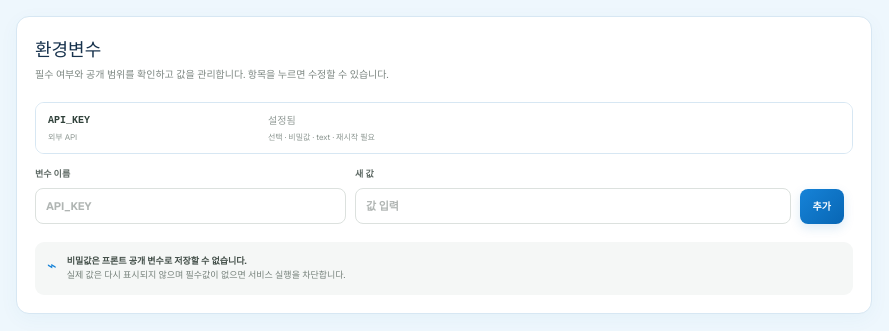
환경변수 저장 중에는 같은 요청을 다시 보내지 않는다
Click the button "API_KEY 외부 API 설정됨 선택 · 비밀값 · text · 재시작 필요" at (69,120), box [36,103,852,153]
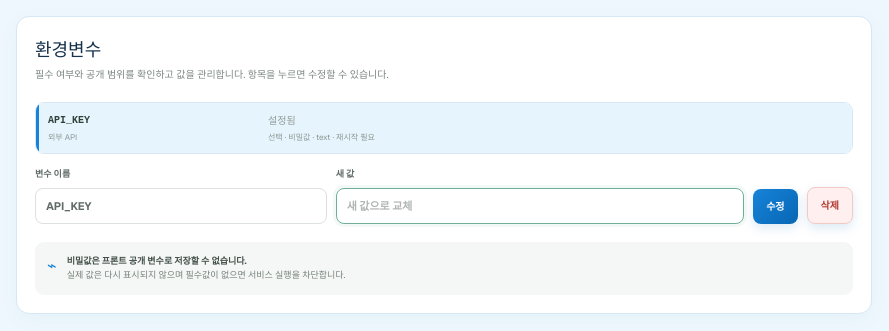
Type "replacement" into the field labelled "새 값" at (540,206), box [336,188,744,224]
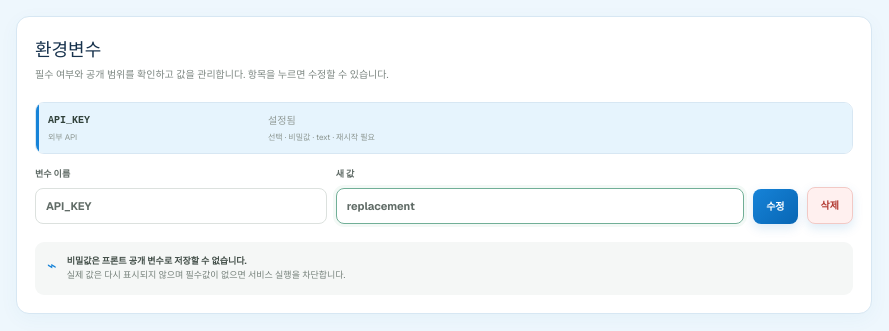
Click the button "수정" at (775,206), box [753,189,798,224]
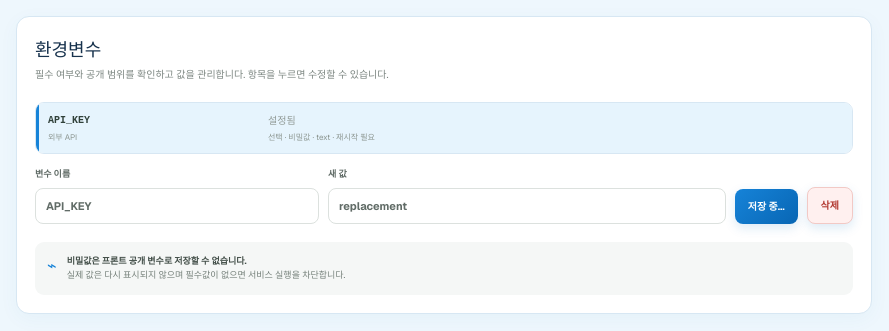
Click the button "저장 중…" at (766,206), box [735,189,798,224]
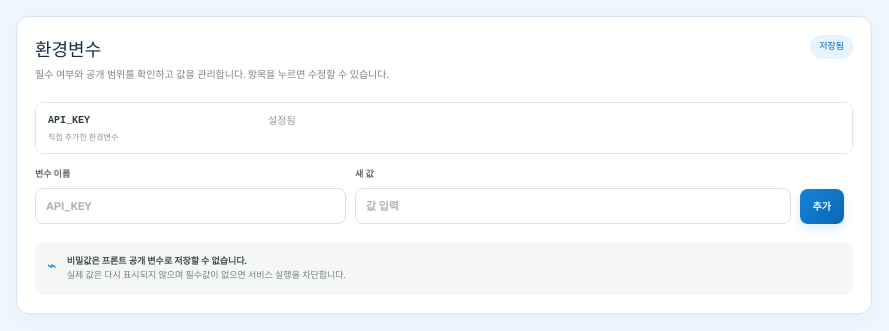
Check: the button "저장 중…" is gone
